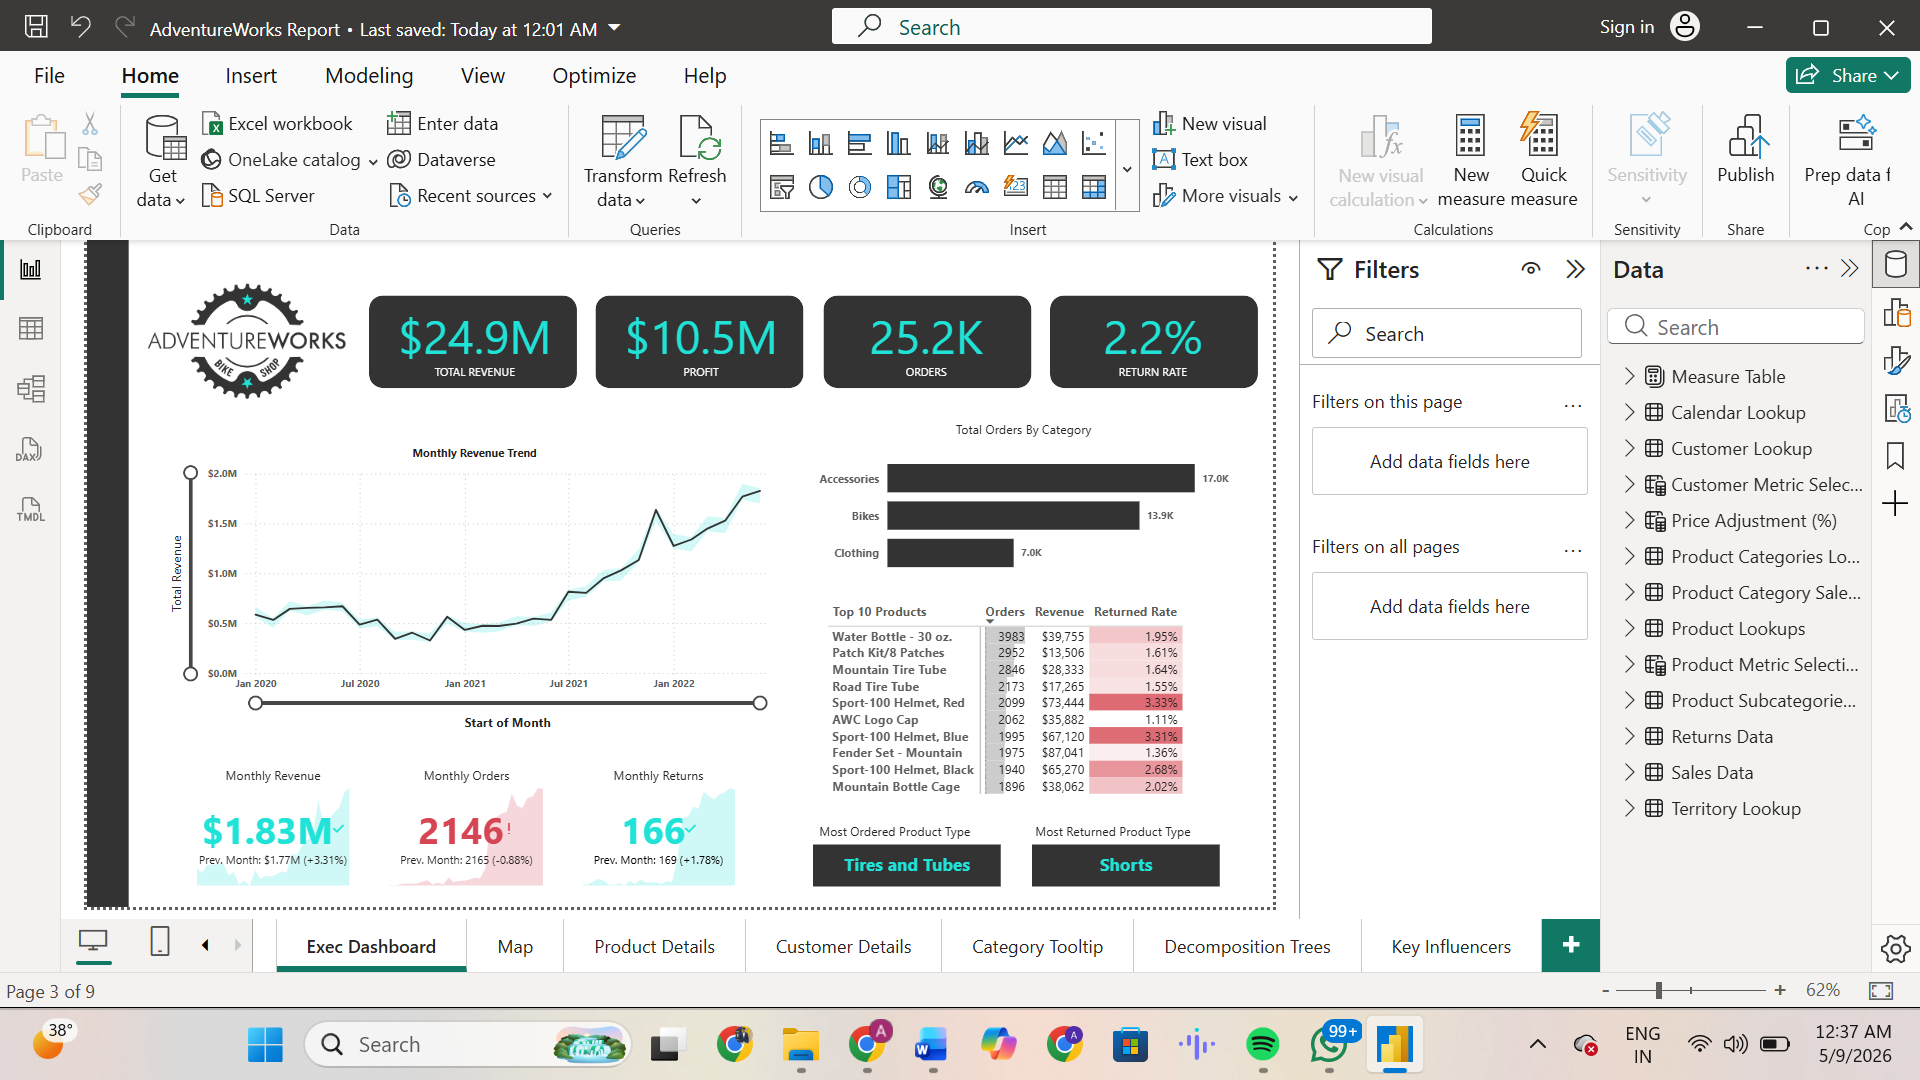

This screenshot's page, from the dashboard's own definition file:
{"tool":"powerbi","page":{"name":"Exec Dashboard","canvas":[1280,720],"ordinal":2},"visuals":[{"type":"image","title":"AW Logo","box":[42.2,26.7,262.2,166.7],"z":0},{"type":"shape","box":[304.5,60,224.4,100],"z":0,"group":"g2"},{"type":"shape","title":"Left Nav Baground","box":[0,0,45,720],"z":1000},{"type":"shape","box":[1040.1,60,224.4,100],"z":1000,"group":"g2"},{"type":"group","id":"g1","title":"KPI's","box":[288.9,26.7,991.1,166.7],"z":2000},{"type":"shape","box":[794.9,60,224.4,100],"z":2000,"group":"g2"},{"type":"card","fields":{"Values":["Measure Table.Total Revenue"]},"box":[288.9,26.7,260,166.7],"z":3000,"group":"g3"},{"type":"group","id":"g2","title":"KPI Bagrounds","box":[304.5,60,960,100],"z":3000,"group":"g1"},{"type":"shape","box":[549.7,60,224.4,100],"z":3000,"group":"g2"},{"type":"lineChart","title":"Monthly Revenue Trend","fields":{"Category":["Calendar Lookup.Start of Month"],"Y":["Measure Table.Total Revenue"]},"box":[82.6,221.8,672,307.7],"z":3000},{"type":"group","id":"g3","title":"KPI Values","box":[288.9,26.7,991.1,166.7],"z":4000,"group":"g1"},{"type":"kpi","title":" Monthly Revenue ","fields":{"Indicator":["Measure Table.Total Revenue"],"TrendLine":["Calendar Lookup.Start of Month"],"Goal":["Measure Table.Previous Month Revenue"]},"box":[113.3,568.3,175,133.3],"z":4000},{"type":"card","fields":{"Values":["Measure Table.Total Profit"]},"box":[532.6,26.7,260,166.7],"z":5000,"group":"g3"},{"type":"kpi","title":" Monthly Orders","fields":{"TrendLine":["Calendar Lookup.Start of Month"],"Indicator":["Measure Table.Total Orders"],"Goal":["Measure Table.Previous Month Orders"]},"box":[321.7,568.3,175,133.3],"z":5000},{"type":"card","fields":{"Values":["Measure Table.Total Orders"]},"box":[776.3,26.7,260,166.7],"z":6000,"group":"g3"},{"type":"kpi","title":" Monthly Returns","fields":{"TrendLine":["Calendar Lookup.Start of Month"],"Indicator":["Measure Table.Total Returns"],"Goal":["Measure Table.Previous Month Returns"]},"box":[530,568.3,175,133.3],"z":6000},{"type":"card","fields":{"Values":["Measure Table.Returned Rate"]},"box":[1020,26.7,260,166.7],"z":7000,"group":"g3"},{"type":"clusteredBarChart","title":"Total Orders By Category","fields":{"Category":["Product Categories Lookup.CategoryName"],"Y":["Measure Table.Total Orders"]},"box":[783.7,194.3,455,181.4],"z":7000},{"type":"pivotTable","fields":{"Rows":["Product Lookups.ProductName"],"Values":["Measure Table.Total Orders","Measure Table.Total Revenue","Measure Table.Returned Rate"]},"box":[795,385.4,443.7,220.2],"z":8000},{"type":"card","fields":{"Values":["Min(Product Subcategories Lookup.SubcategoryName)"]},"box":[783.8,651.8,202.5,45],"z":9000},{"type":"textbox","box":[785.1,623.4,227.7,51.1],"z":10000},{"type":"card","fields":{"Values":["Min(Product Subcategories Lookup.SubcategoryName)"]},"box":[1019.4,651.8,202.5,45],"z":11000},{"type":"textbox","box":[1019.1,623.4,223.4,55.3],"z":12000}]}

Visuals, with their boxes on the page's 1280x720 design canvas (x1, y1, x2, y2). These are canvas units, not pixel positions in the 1920x1080 screenshot, which may show the page scaled, cropped or inside an application window:
"AW Logo" image: {"x1": 42, "y1": 27, "x2": 304, "y2": 193}
shape: {"x1": 304, "y1": 60, "x2": 529, "y2": 160}
"Left Nav Baground" shape: {"x1": 0, "y1": 0, "x2": 45, "y2": 720}
shape: {"x1": 1040, "y1": 60, "x2": 1264, "y2": 160}
"KPI's" group: {"x1": 289, "y1": 27, "x2": 1280, "y2": 193}
shape: {"x1": 795, "y1": 60, "x2": 1019, "y2": 160}
card - Measure Table.Total Revenue: {"x1": 289, "y1": 27, "x2": 549, "y2": 193}
"KPI Bagrounds" group: {"x1": 304, "y1": 60, "x2": 1264, "y2": 160}
shape: {"x1": 550, "y1": 60, "x2": 774, "y2": 160}
"Monthly Revenue Trend" lineChart: {"x1": 83, "y1": 222, "x2": 755, "y2": 530}
"KPI Values" group: {"x1": 289, "y1": 27, "x2": 1280, "y2": 193}
" Monthly Revenue " kpi: {"x1": 113, "y1": 568, "x2": 288, "y2": 702}
card - Measure Table.Total Profit: {"x1": 533, "y1": 27, "x2": 793, "y2": 193}
" Monthly Orders" kpi: {"x1": 322, "y1": 568, "x2": 497, "y2": 702}
card - Measure Table.Total Orders: {"x1": 776, "y1": 27, "x2": 1036, "y2": 193}
" Monthly Returns" kpi: {"x1": 530, "y1": 568, "x2": 705, "y2": 702}
card - Measure Table.Returned Rate: {"x1": 1020, "y1": 27, "x2": 1280, "y2": 193}
"Total Orders By Category" clusteredBarChart: {"x1": 784, "y1": 194, "x2": 1239, "y2": 376}
pivotTable - Product Lookups.ProductName x Measure Table.Total Orders: {"x1": 795, "y1": 385, "x2": 1239, "y2": 606}
card - Min(Product Subcategories Lookup.SubcategoryName): {"x1": 784, "y1": 652, "x2": 986, "y2": 697}
textbox: {"x1": 785, "y1": 623, "x2": 1013, "y2": 674}
card - Min(Product Subcategories Lookup.SubcategoryName): {"x1": 1019, "y1": 652, "x2": 1222, "y2": 697}
textbox: {"x1": 1019, "y1": 623, "x2": 1242, "y2": 679}
